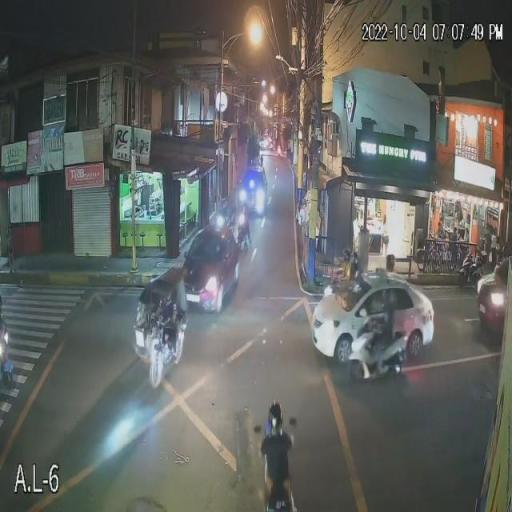helmet: (268, 400, 283, 433), (382, 286, 399, 309), (344, 248, 352, 260), (351, 252, 360, 262)
motorcycle: (251, 412, 304, 512), (347, 339, 418, 384)
rider: (256, 436, 294, 481), (374, 314, 392, 372), (342, 263, 350, 280), (352, 261, 360, 277)
